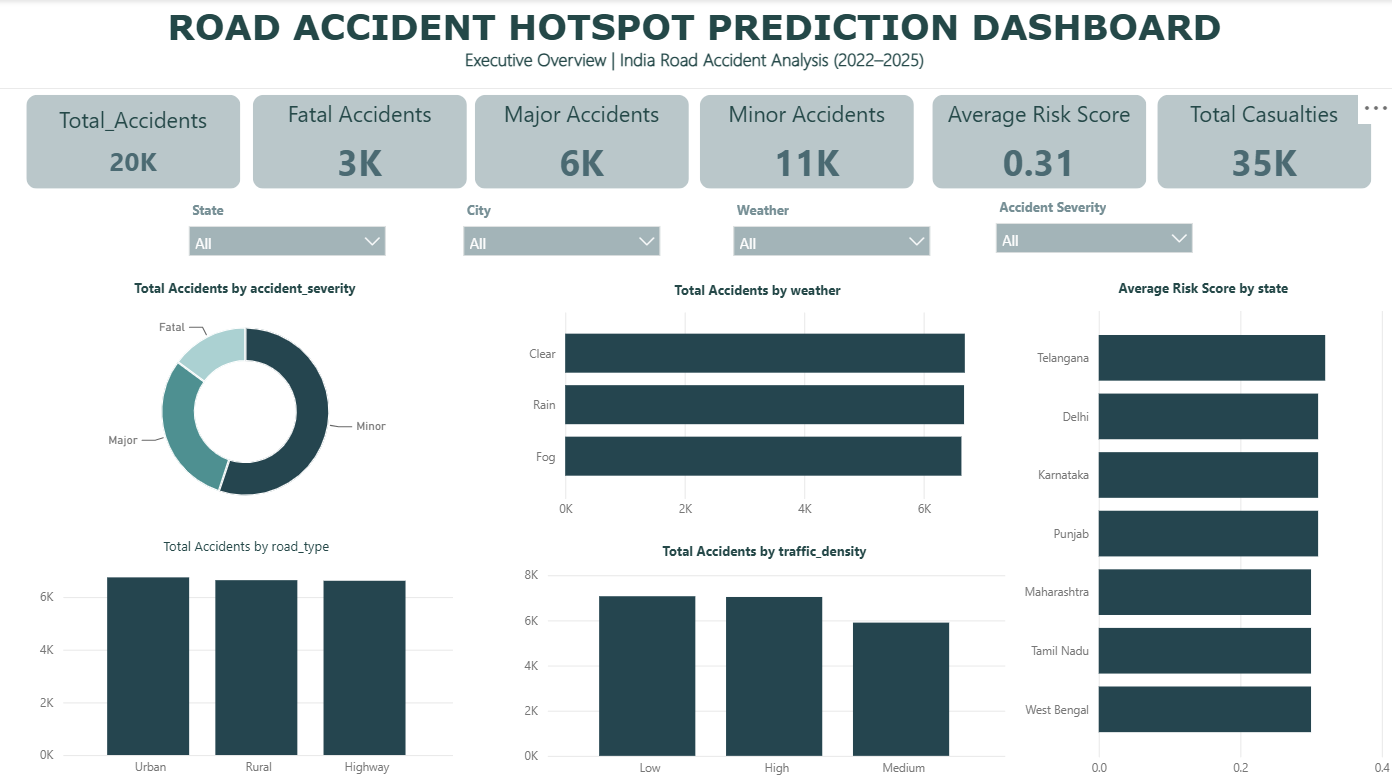

Layout of this report page (visuals, bound fields, positions):
{"tool":"powerbi","page":{"name":"Executive Overview","canvas":[1280,720],"ordinal":0},"visuals":[{"type":"cardVisual","fields":{"Data":["Accidents.Fatal Accidents"]},"box":[230,82,206,96],"z":0},{"type":"cardVisual","fields":{"Data":["Accidents.Minor Accidents"]},"box":[640,82,206,96],"z":1000},{"type":"cardVisual","fields":{"Data":["Accidents.Major Accidents"]},"box":[434,82,206,96],"z":2000},{"type":"cardVisual","fields":{"Data":["Accidents.Average Risk Score"]},"box":[852,82,206,96],"z":3000},{"type":"cardVisual","fields":{"Data":["Accidents.Total Casualties"]},"box":[1058,82,206,96],"z":4000},{"type":"textbox","box":[0,0,1280,82.5],"z":5000},{"type":"cardVisual","fields":{"Data":["Accidents.Total_Accidents"]},"box":[24,82,206,96],"z":6000},{"type":"donutChart","fields":{"Category":["Accidents.accident_severity"],"Y":["Accidents.Total Accidents"]},"box":[18.3,256.7,421.7,225],"z":7000},{"type":"clusteredBarChart","fields":{"Category":["Accidents.weather"],"Y":["Accidents.Total Accidents"]},"box":[480,257.4,434.6,225.6],"z":8000},{"type":"clusteredColumnChart","fields":{"Category":["Accidents.road_type"],"Y":["Accidents.Total Accidents"]},"box":[35,493.3,388.3,226.7],"z":9000},{"type":"clusteredColumnChart","fields":{"Category":["Accidents.traffic_density"],"Y":["Accidents.Total Accidents"]},"box":[478.3,496.7,450,223.3],"z":10000},{"type":"slicer","fields":{"Values":["Accidents.weather"]},"box":[666.3,180.2,199.9,59.1],"z":11000},{"type":"slicer","fields":{"Values":["Accidents.state"]},"box":[168.1,180.2,199.9,59.1],"z":12000},{"type":"clusteredBarChart","fields":{"Category":["Accidents.state"],"Y":["Accidents.Average Risk Score"]},"box":[930,256.7,350,463.3],"z":13000},{"type":"slicer","fields":{"Values":["Accidents.accident_severity"]},"box":[905.5,177.2,199.9,59.1],"z":14000},{"type":"slicer","fields":{"Values":["Accidents.weather"]},"box":[417.9,180.2,199.9,59.1],"z":15000}]}

Visuals, with their boxes in screenshot pixels (x1, y1, x2, y2), scaled from the page's 1280x720 canvas onto the 1392x783 screenshot:
cardVisual - Accidents.Fatal Accidents: 250, 89, 474, 194
cardVisual - Accidents.Minor Accidents: 696, 89, 920, 194
cardVisual - Accidents.Major Accidents: 472, 89, 696, 194
cardVisual - Accidents.Average Risk Score: 927, 89, 1151, 194
cardVisual - Accidents.Total Casualties: 1151, 89, 1375, 194
textbox: 0, 0, 1391, 90
cardVisual - Accidents.Total_Accidents: 26, 89, 250, 194
donutChart - Accidents.accident_severity x Accidents.Total Accidents: 20, 279, 478, 524
clusteredBarChart - Accidents.weather x Accidents.Total Accidents: 522, 280, 995, 525
clusteredColumnChart - Accidents.road_type x Accidents.Total Accidents: 38, 536, 460, 782
clusteredColumnChart - Accidents.traffic_density x Accidents.Total Accidents: 520, 540, 1010, 782
slicer - Accidents.weather: 725, 196, 942, 260
slicer - Accidents.state: 183, 196, 400, 260
clusteredBarChart - Accidents.state x Accidents.Average Risk Score: 1011, 279, 1391, 782
slicer - Accidents.accident_severity: 985, 193, 1202, 257
slicer - Accidents.weather: 454, 196, 672, 260
